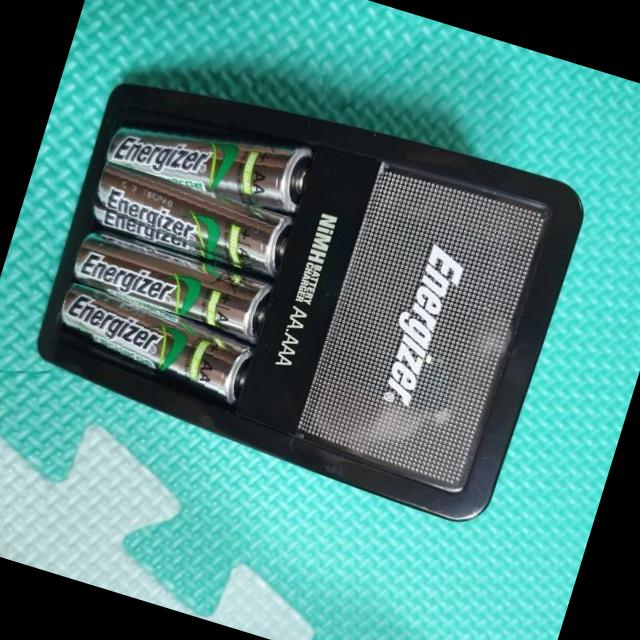Hazard: (102, 90, 314, 222), (47, 281, 258, 408), (66, 224, 277, 348), (85, 160, 296, 282)
